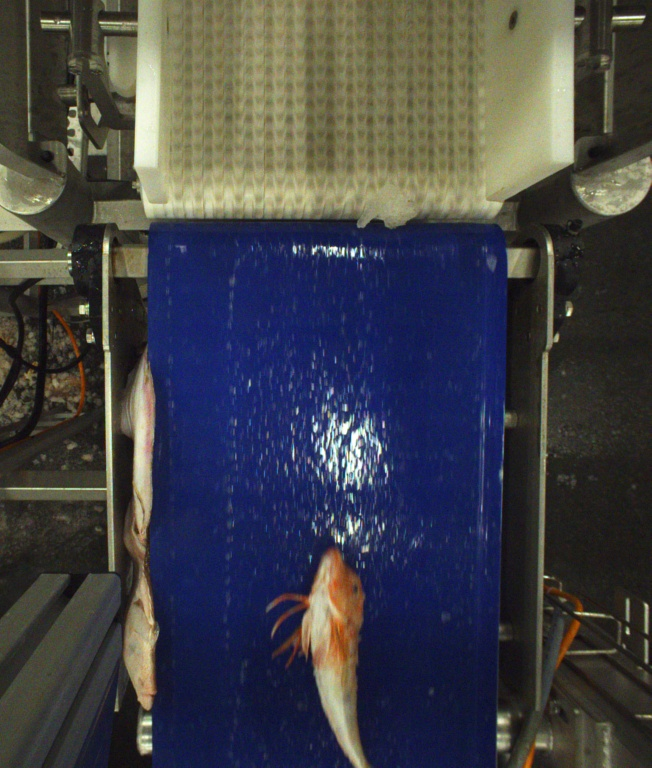GUU: (271, 546, 368, 768)
